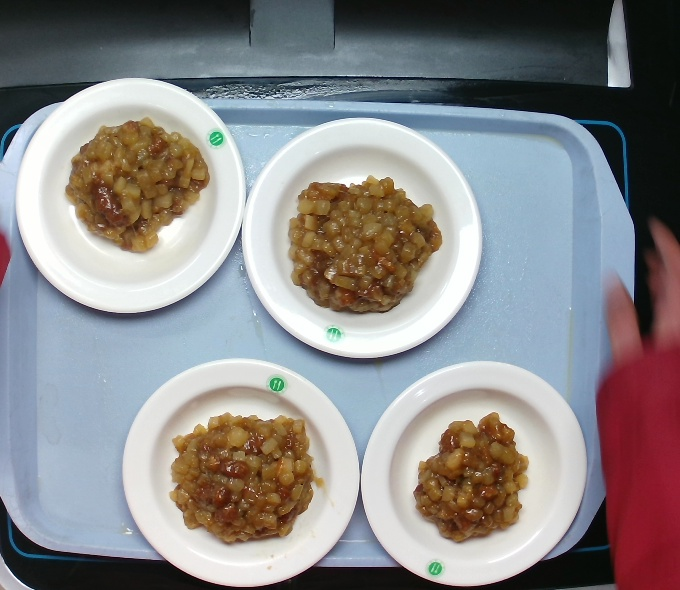wcq-RouYuan: (172, 389, 323, 551), (57, 108, 215, 259), (285, 163, 442, 311), (403, 404, 535, 541)
